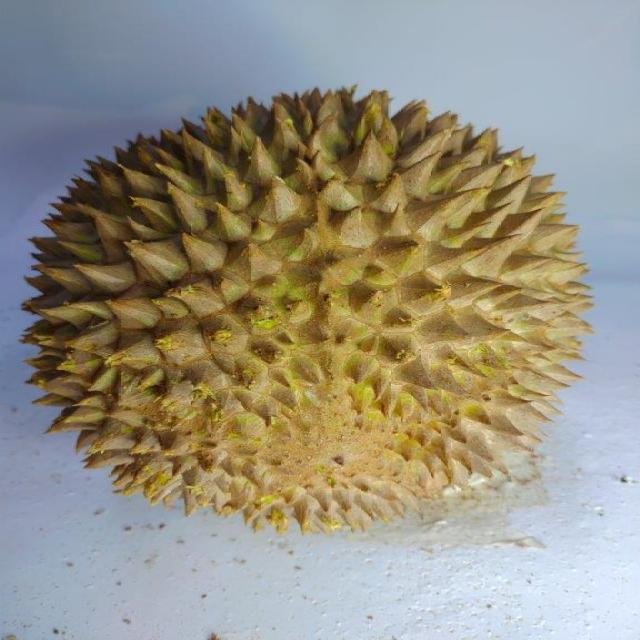mature: (25, 76, 591, 532)
